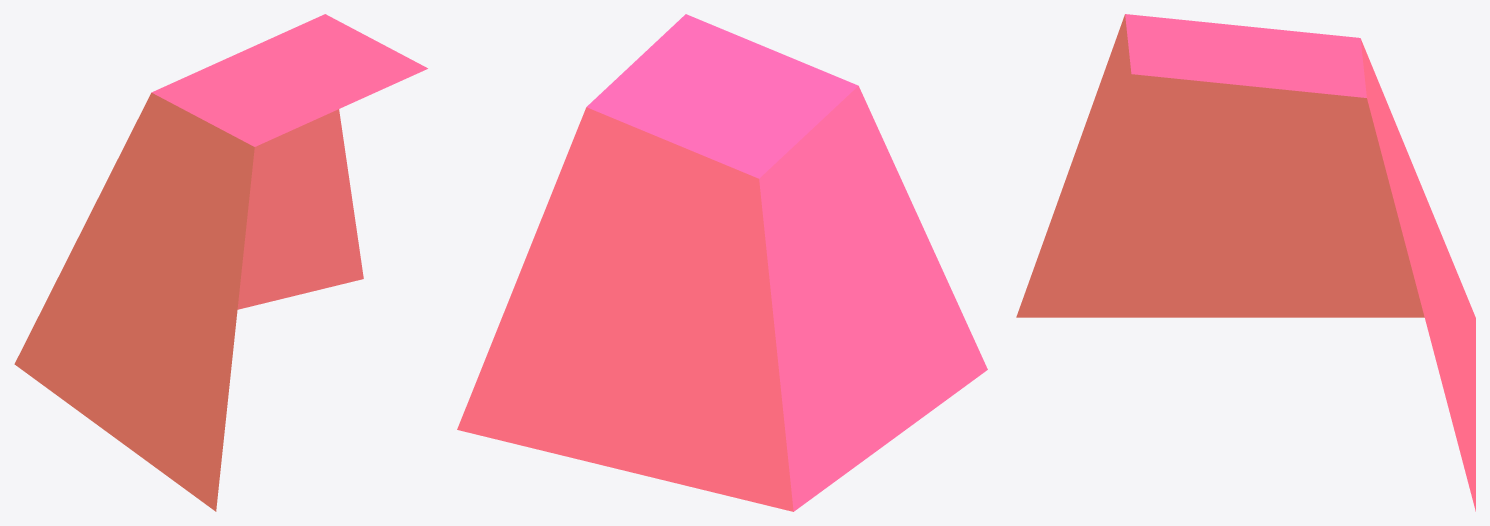
File: base-open-out.fbx
The picture shows the model from 3 angles, left to right: view 1: azimuth 30°, elevation 25°; view 2: azimuth 150°, elevation 25°; view 3: azimuth 270°, elevation 25°; orthographic projection. The views are drawn at different scales.
Visible parts, largest first — view 1: pCube1; view 2: pCube1; view 3: pCube1.
Part boxes in pixels (bbox=[...]): pCube1: bbox=[14, 14, 427, 511]; pCube1: bbox=[457, 14, 987, 511]; pCube1: bbox=[1016, 14, 1475, 511].
Bounding box in the file's own units: 10 × 9.36 × 10.
